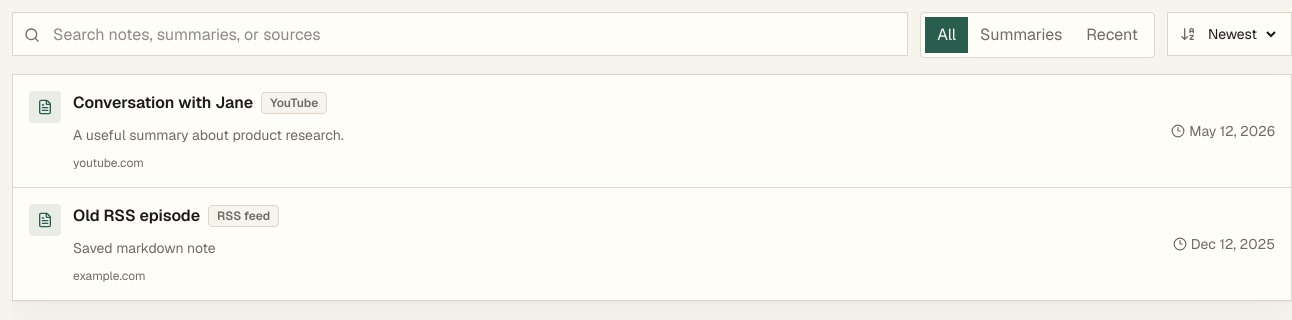
it: LibraryList › filters to notes with summaries
Click the button "Summaries" at (1021, 35), box [968,17,1074,53]
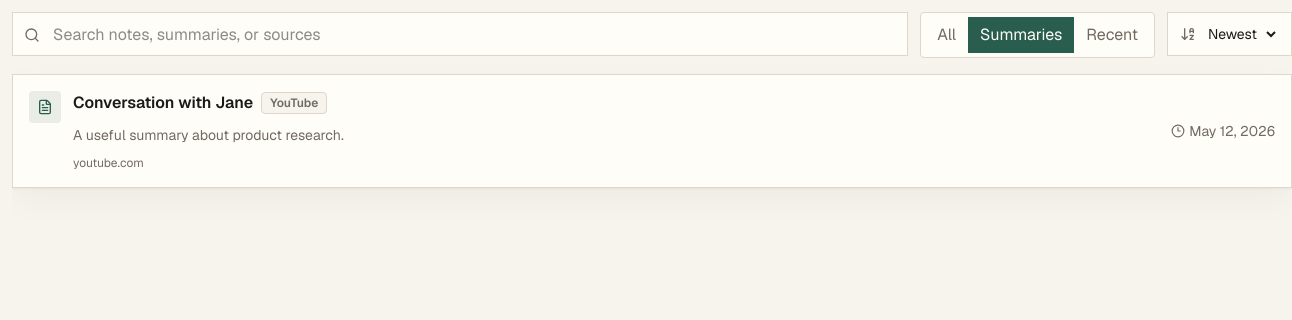
expect the heading "Conversation with Jane" is shown: met, box [73,91,253,115]
expect the link "Old RSS episode" is gone: met
